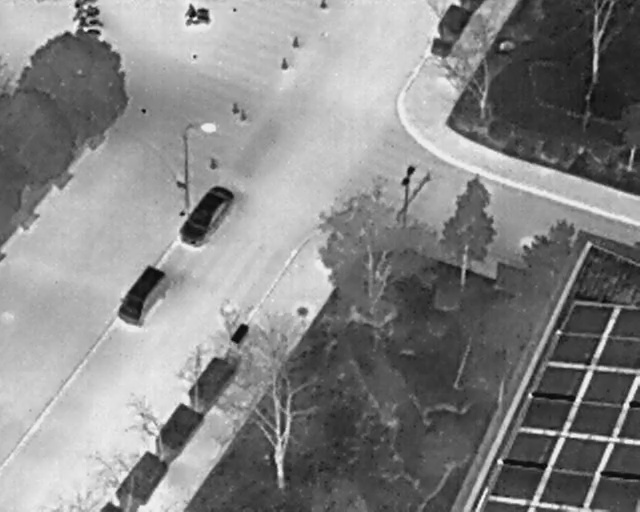Bicycle: (69, 6, 101, 23), (182, 1, 212, 17), (184, 13, 213, 27), (76, 15, 105, 28), (74, 25, 103, 38), (73, 0, 97, 9)
Car: (171, 177, 241, 258), (111, 258, 177, 333)
